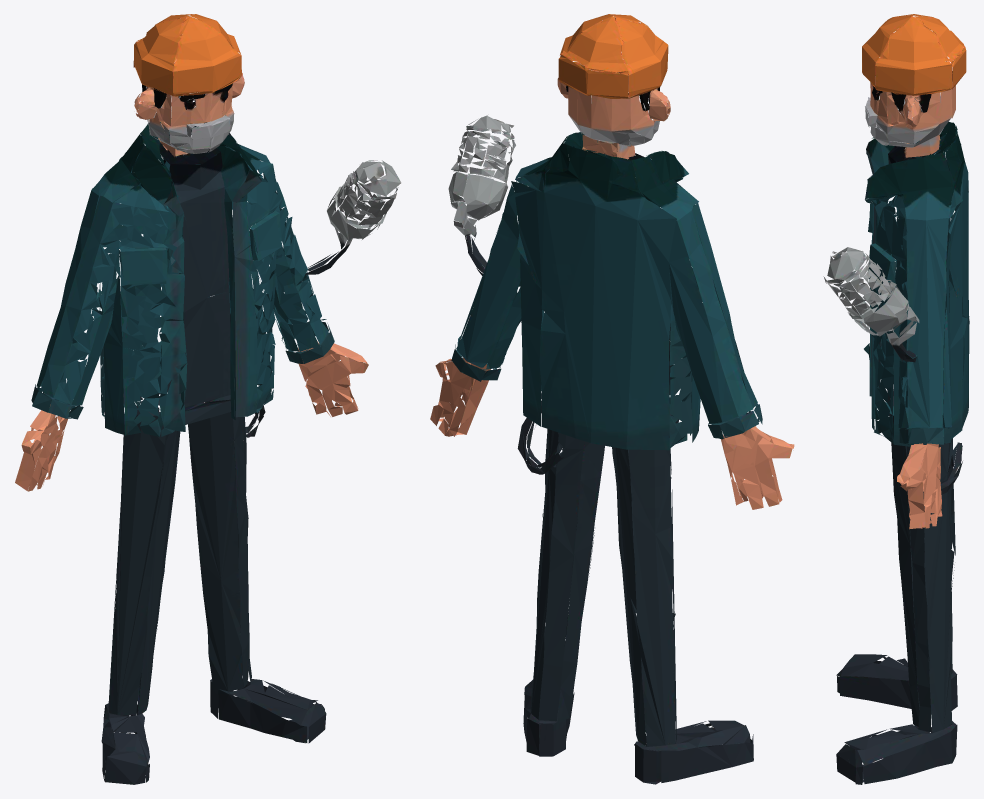
The model's file is habitant.glb.
3 views of the same model, side by side, from view 1: azimuth 30°, elevation 25°; view 2: azimuth 150°, elevation 25°; view 3: azimuth 270°, elevation 25° (orthographic). The views are drawn at different scales.
Visible parts, largest first — view 1: world; view 2: world; view 3: world.
Boxes of the visible parts, left/top/right/bottom form: world: left=15, top=14, right=401, bottom=784; world: left=430, top=14, right=794, bottom=784; world: left=823, top=14, right=969, bottom=784.
Bounding box in the file's own units: 0.5081 × 1 × 0.1853.
1 material, 1 textured.
